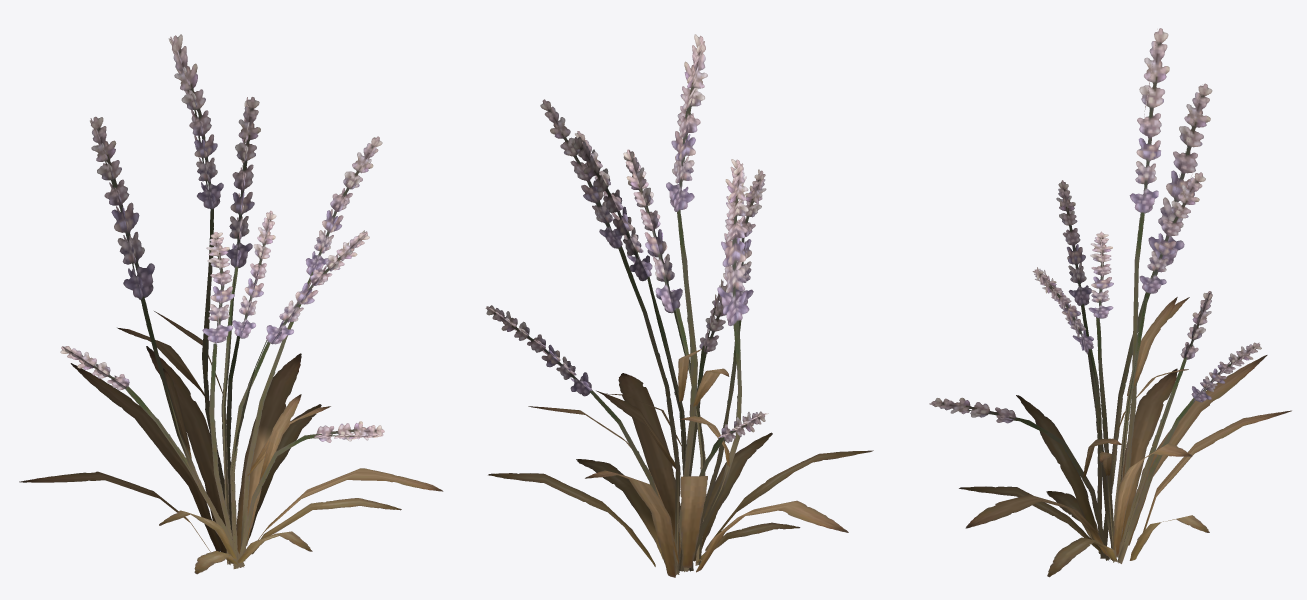
Rendered from SM_Com_Veg_02AS.fbx.
3 views of the same model, side by side, from view 1: azimuth 30°, elevation 25°; view 2: azimuth 150°, elevation 25°; view 3: azimuth 270°, elevation 25° (orthographic). The views are drawn at different scales.
Parts seen in each view (by area): view 1: SM_Com_Veg_02AS.mo; view 2: SM_Com_Veg_02AS.mo; view 3: SM_Com_Veg_02AS.mo.
Boxes of the visible parts, bbox=[...] form: SM_Com_Veg_02AS.mo: bbox=[19, 34, 443, 574]; SM_Com_Veg_02AS.mo: bbox=[485, 34, 873, 577]; SM_Com_Veg_02AS.mo: bbox=[929, 28, 1291, 577].
Size of the model in its own units: 0.7329 by 1.13 by 0.7055.
